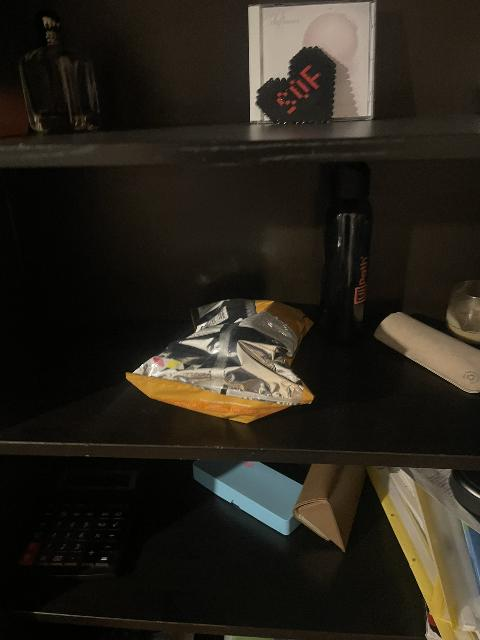Chio Hula Hoops Cheese 70g: (126, 297, 319, 422)
